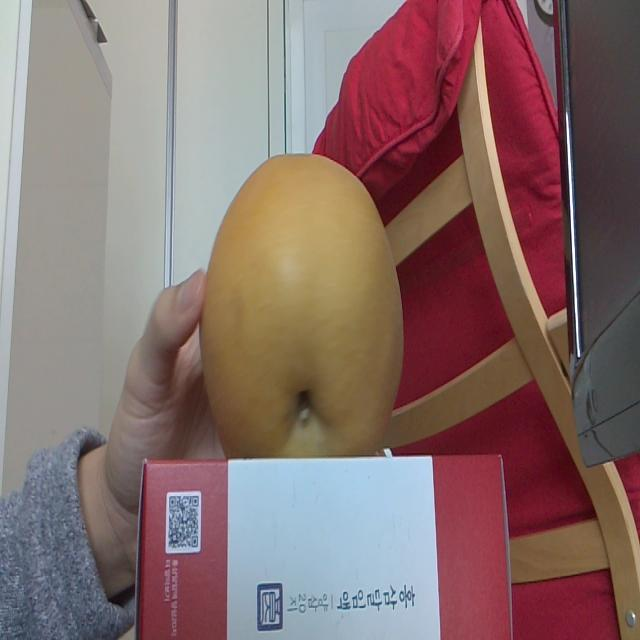pear: (201, 149, 403, 459)
